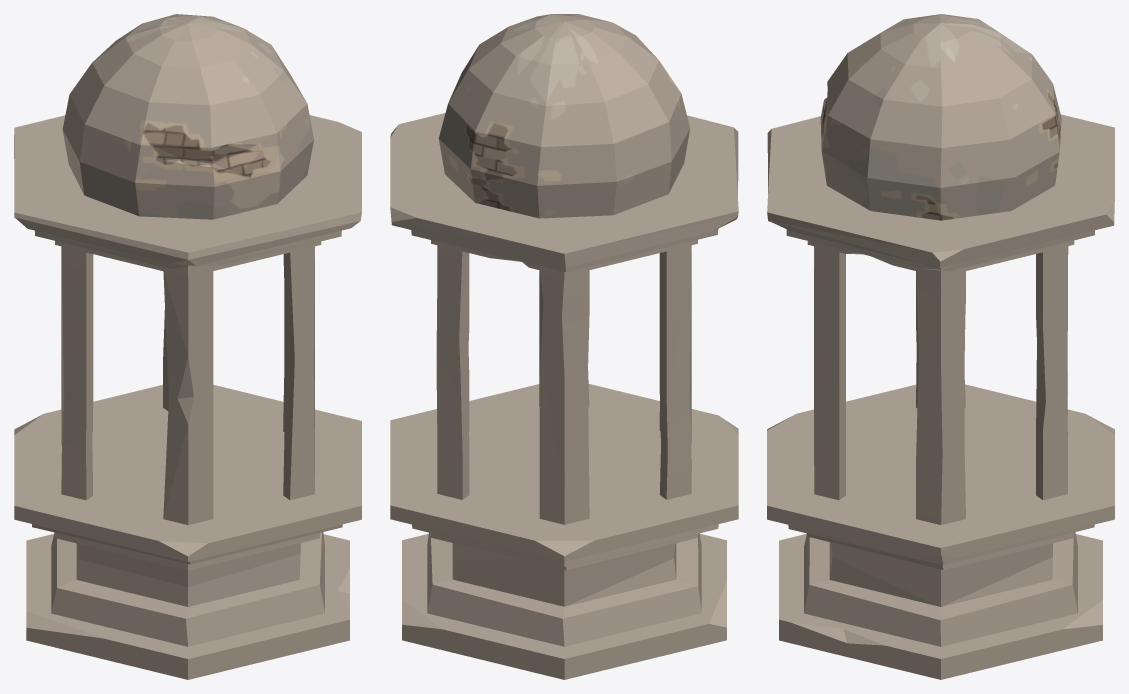
Rendered from SM_Bld_Monument_01.glb.
3 renders of one model, left to right at view 1: azimuth 30°, elevation 25°; view 2: azimuth 150°, elevation 25°; view 3: azimuth 270°, elevation 25°, orthographic.
Visible parts, largest first — view 1: SM_Bld_Monument_01; view 2: SM_Bld_Monument_01; view 3: SM_Bld_Monument_01.
Boxes of the visible parts, x1,y1,x2,y2 form: SM_Bld_Monument_01: [14, 14, 361, 679]; SM_Bld_Monument_01: [390, 14, 738, 679]; SM_Bld_Monument_01: [767, 14, 1114, 679].
Size of the model in its own units: 3.24 by 5.14 by 2.8.
1 material, 1 textured.
